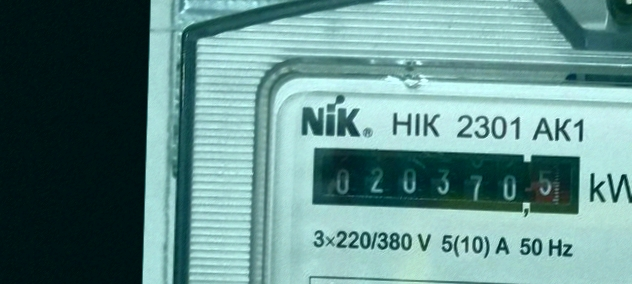0: (500, 173, 519, 203), (333, 166, 351, 195), (401, 166, 417, 194)
2: (367, 165, 386, 196)
3: (434, 166, 451, 196)
5: (536, 167, 555, 198)
7: (467, 173, 483, 203)
screen: (305, 141, 589, 224)
